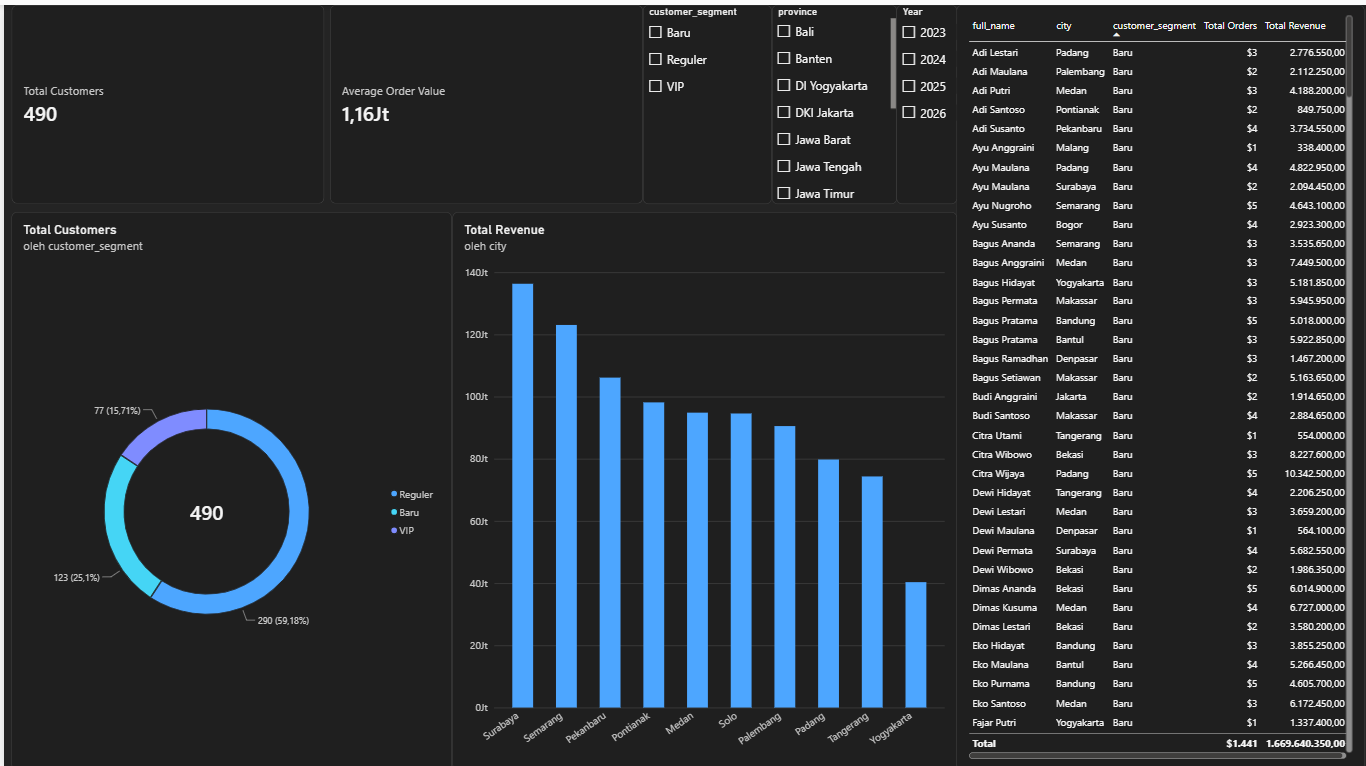

What the dashboard file says about the page in this screenshot:
{"tool":"powerbi","page":{"name":"Halaman 3","canvas":[1920,1080],"ordinal":2},"visuals":[{"type":"cardVisual","fields":{"Data":["fact_penjualan.Total Customers","fact_penjualan.Average Order Value"]},"box":[11.3,0,890.1,280.6],"z":0},{"type":"donutChart","fields":{"Category":["dim_pelanggan.customer_segment"],"Y":["fact_penjualan.Total Customers"]},"box":[11.3,292,620.8,788],"z":1},{"type":"columnChart","fields":{"Category":["dim_pelanggan.city"],"Y":["fact_penjualan.Total Revenue"]},"box":[632.1,292,711.5,788],"z":2},{"type":"tableEx","fields":{"Values":["dim_pelanggan.full_name","dim_pelanggan.city","dim_pelanggan.customer_segment","fact_penjualan.Total Orders","fact_penjualan.Total Revenue"]},"box":[1343.6,0,575.4,1080],"z":3},{"type":"slicer","fields":{"Values":["dim_pelanggan.customer_segment"]},"box":[901.4,0,181.4,280.6],"z":4},{"type":"slicer","fields":{"Values":["dim_pelanggan.province"]},"box":[1082.8,0,175.7,280.6],"z":5},{"type":"slicer","fields":{"Values":["dim_date.Year"]},"box":[1258.6,0,85,280.6],"z":6}]}

Visuals, with their boxes in screenshot pixels (x1, y1, x2, y2), scaled from the page's 1920x1080 canvas onto the 1366x766 screenshot:
cardVisual - fact_penjualan.Total Customers x fact_penjualan.Average Order Value: 8 0 641 199
donutChart - dim_pelanggan.customer_segment x fact_penjualan.Total Customers: 8 207 450 765
columnChart - dim_pelanggan.city x fact_penjualan.Total Revenue: 450 207 956 765
tableEx - dim_pelanggan.full_name x dim_pelanggan.city: 956 0 1365 765
slicer - dim_pelanggan.customer_segment: 641 0 770 199
slicer - dim_pelanggan.province: 770 0 895 199
slicer - dim_date.Year: 895 0 956 199
